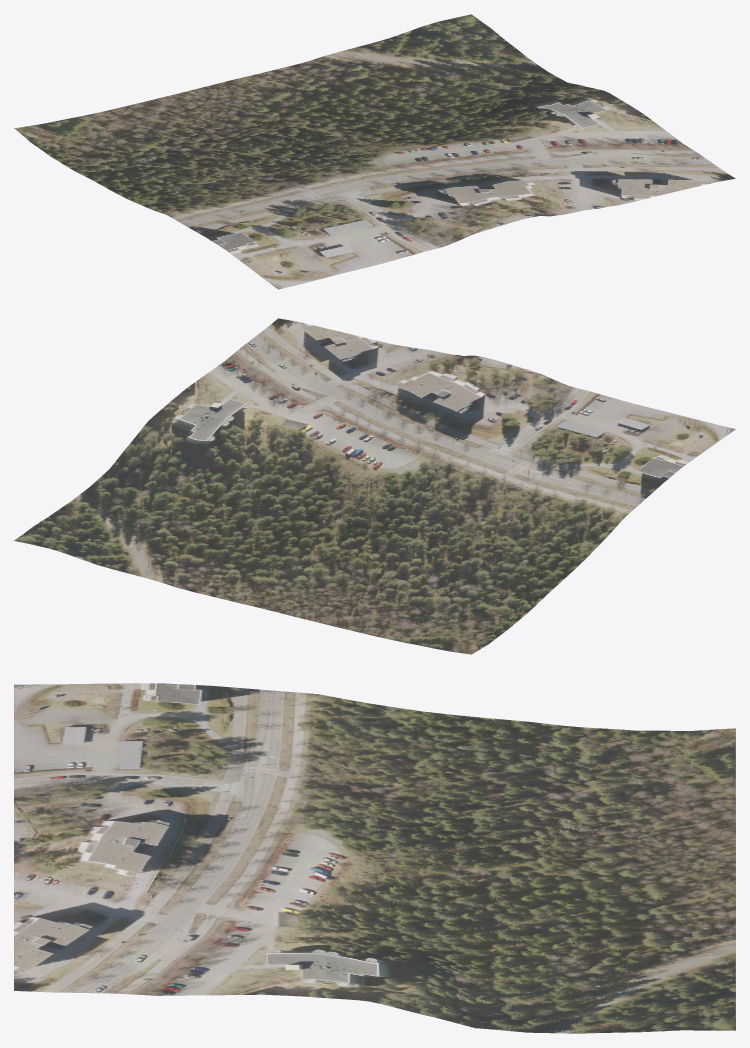
The model's file is CM_Terrain_24491073_6817541.fbx.
3 views of the same model, one above another, from view 1: azimuth 30°, elevation 25°; view 2: azimuth 150°, elevation 25°; view 3: azimuth 270°, elevation 25° (orthographic). The views are drawn at different scales.
Visible parts, largest first — view 1: CM_Terrain_24491073_6817541_LOD0; view 2: CM_Terrain_24491073_6817541_LOD0; view 3: CM_Terrain_24491073_6817541_LOD0.
Boxes of the visible parts, bbox=[...] form: CM_Terrain_24491073_6817541_LOD0: bbox=[14, 14, 735, 289]; CM_Terrain_24491073_6817541_LOD0: bbox=[14, 318, 735, 654]; CM_Terrain_24491073_6817541_LOD0: bbox=[14, 683, 735, 1033].
Size of what is drawn, in the model's own units: 205 by 20.52 by 205.
